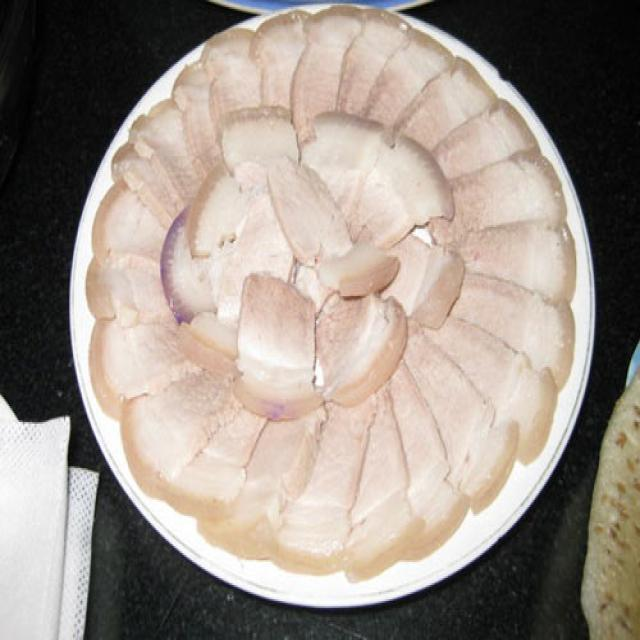thit luoc: (421, 317, 554, 463), (406, 332, 516, 507), (270, 160, 397, 298), (198, 413, 315, 557), (219, 108, 298, 317), (387, 362, 468, 560), (452, 269, 572, 383), (280, 406, 370, 553), (344, 388, 412, 576), (125, 374, 228, 480), (351, 135, 453, 241), (238, 273, 315, 411), (315, 293, 407, 404), (406, 55, 495, 163), (302, 112, 393, 216), (453, 154, 564, 238), (288, 11, 360, 140), (458, 220, 572, 301), (92, 321, 192, 410), (362, 28, 452, 126), (168, 408, 265, 498), (434, 105, 538, 177), (389, 232, 463, 328), (337, 20, 403, 115), (86, 255, 173, 321), (188, 165, 250, 257), (93, 181, 166, 259), (201, 30, 260, 121), (248, 16, 307, 106), (113, 144, 173, 216), (173, 64, 216, 161), (131, 98, 184, 165)
